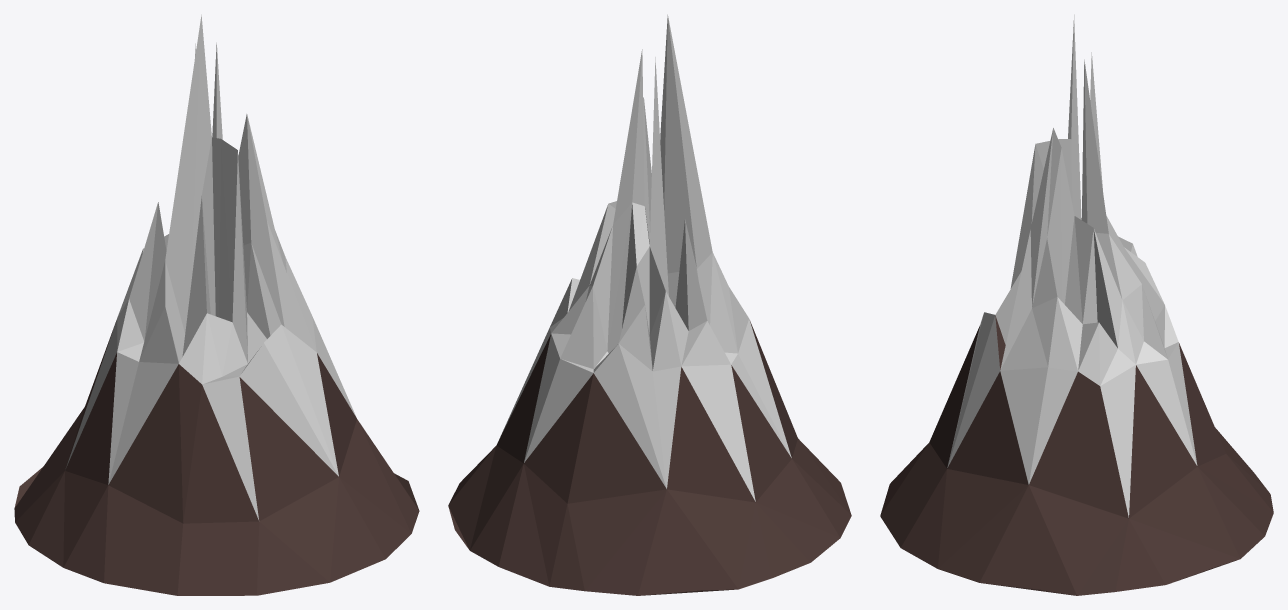
The model's file is montaña-2_lowpoly (1).fbx.
The picture shows the model from 3 angles, left to right: view 1: azimuth 30°, elevation 25°; view 2: azimuth 150°, elevation 25°; view 3: azimuth 270°, elevation 25°; orthographic projection. The views are drawn at different scales.
Visible parts, largest first — view 1: Circle.004; view 2: Circle.004; view 3: Circle.004.
Boxes of the visible parts, x1,y1,x2,y2 form: Circle.004: [14, 14, 419, 595]; Circle.004: [448, 14, 851, 595]; Circle.004: [880, 14, 1273, 595].
Size of the model in its own units: 2105 by 2907 by 2111.
